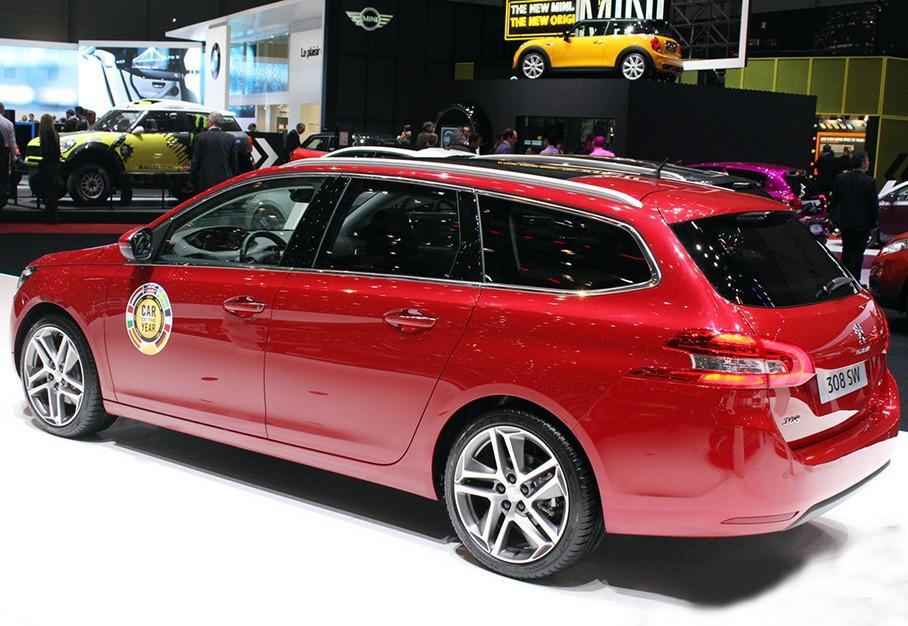Wagon: (8, 145, 902, 583)
